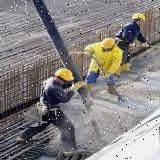Helmet: (54, 68, 75, 81), (101, 37, 116, 49), (130, 12, 146, 21)
